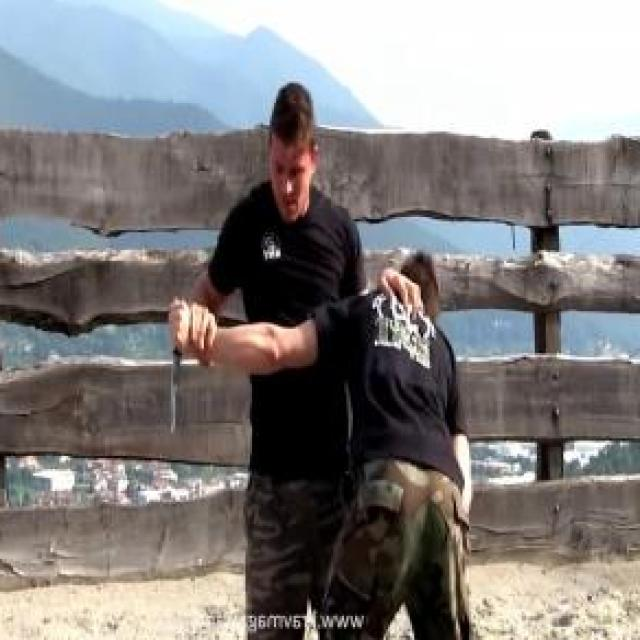knife: (166, 290, 190, 440)
